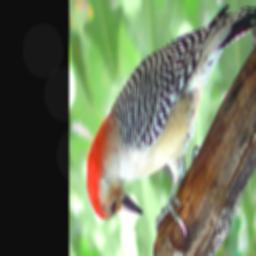Woodpecker: (83, 0, 256, 238)
